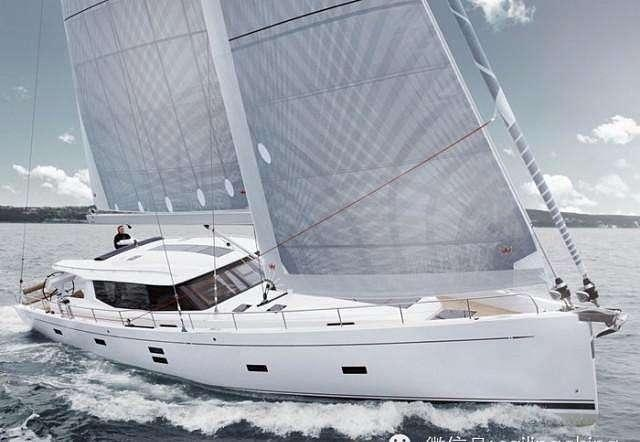fanchuan: (9, 1, 581, 410)
